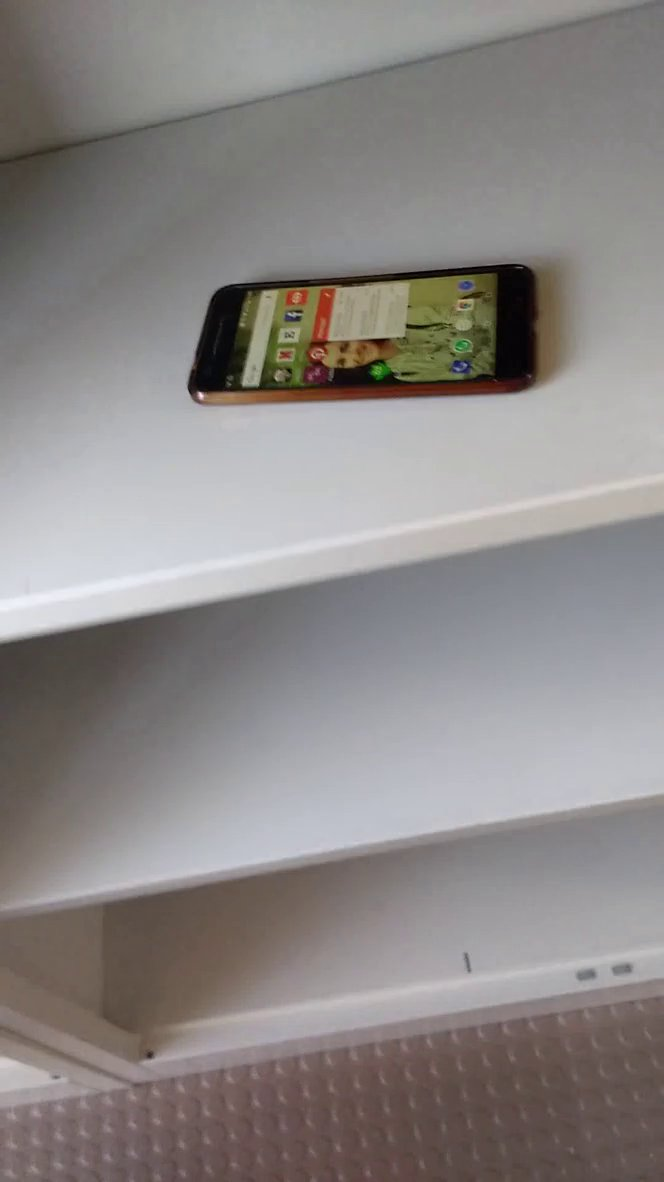phone: (180, 242, 560, 417)
